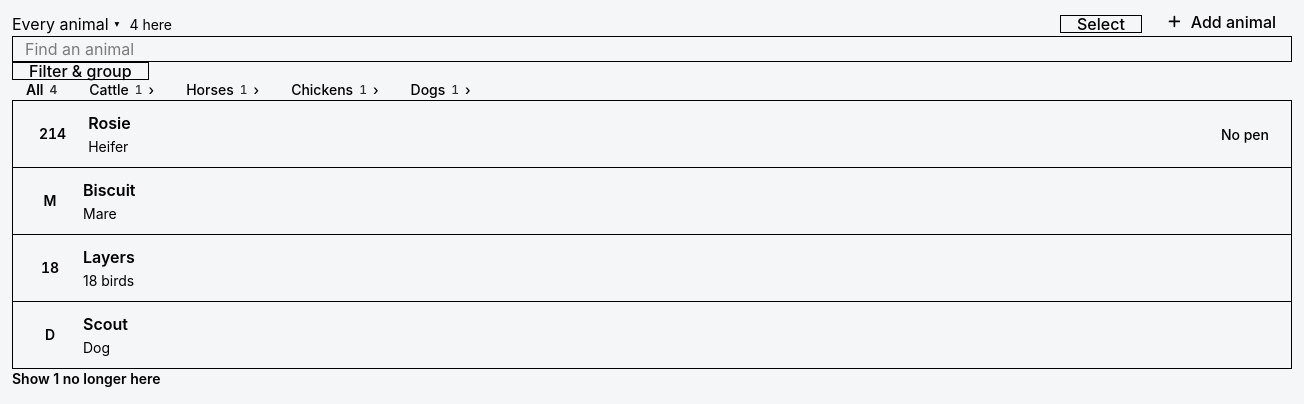
Test: the Animals list › searches by name or tag
In the field labelled "Find an animal": (652, 49) [12,36,1292,62], type "214"
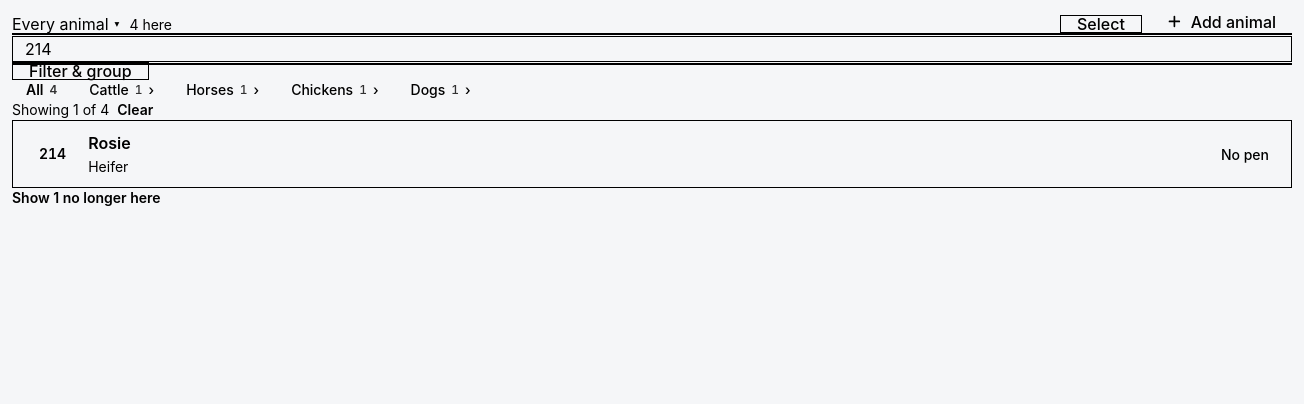
Expected: the text "Rosie" is shown, [88,133,131,153]
Expected: the number of list items is 1, [13,121,1291,187]
